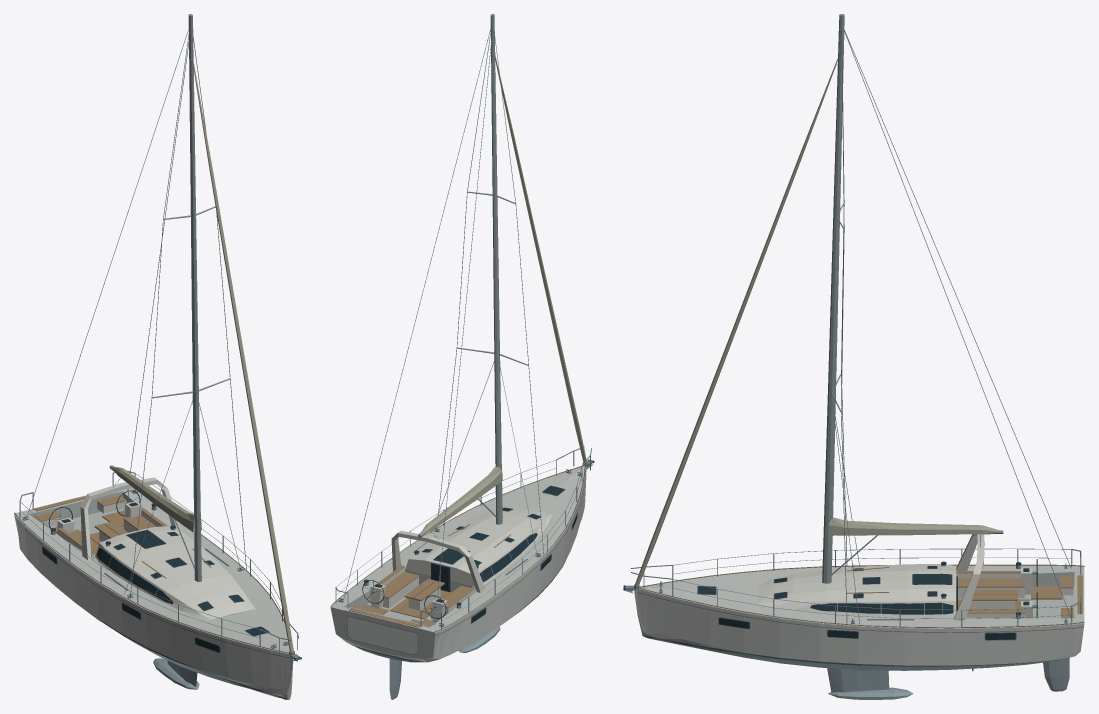
Rendered from KJP_Oceanis48_lazybag.glb.
The picture shows the model from 3 angles, left to right: view 1: azimuth 30°, elevation 25°; view 2: azimuth 150°, elevation 25°; view 3: azimuth 270°, elevation 25°; orthographic projection. The views are drawn at different scales.
Visible parts, largest first — view 1: KJP_Oceanis48; view 2: KJP_Oceanis48; view 3: KJP_Oceanis48.
Boxes of the visible parts, bbox=[...] form: KJP_Oceanis48: bbox=[14, 14, 301, 699]; KJP_Oceanis48: bbox=[330, 14, 594, 699]; KJP_Oceanis48: bbox=[623, 14, 1084, 699].
Bounding box in the file's own units: 4.74 × 23.86 × 14.61.
